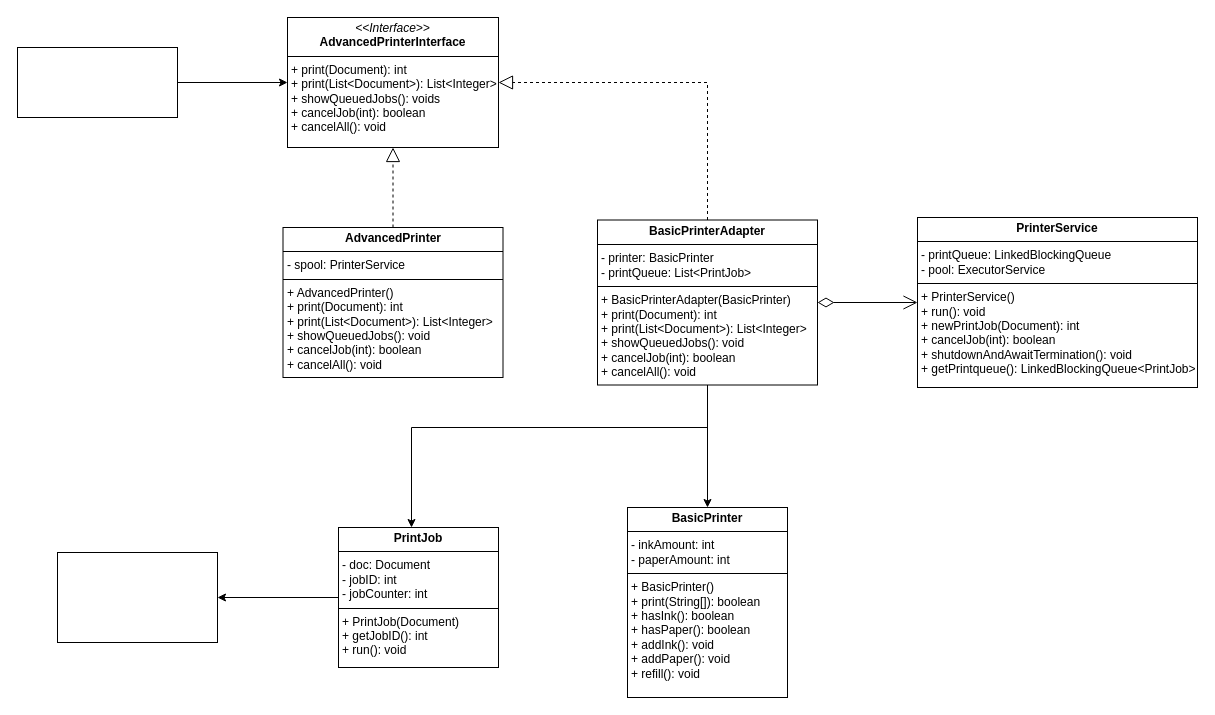
This 1215x715 diagram has some shape labels left out. Each missing label, with the centre of its shape:
"Document - document: String[] + Document(String) + getContent(): String[]" goes at point 137,597.
"PrinterTest + pause(): void + main(String[]): void" goes at point 97,82.
